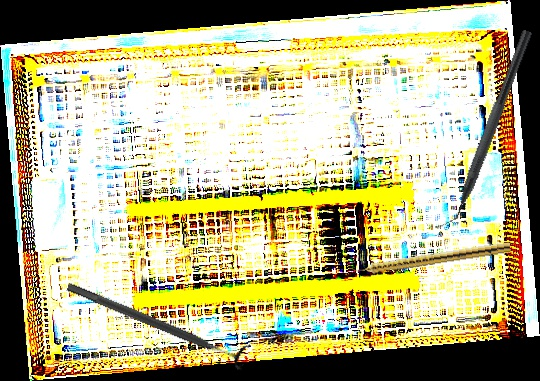Chopper: (434, 24, 533, 237)
Fixation Ring: (62, 272, 252, 373)
Handpiece: (350, 238, 512, 278)
